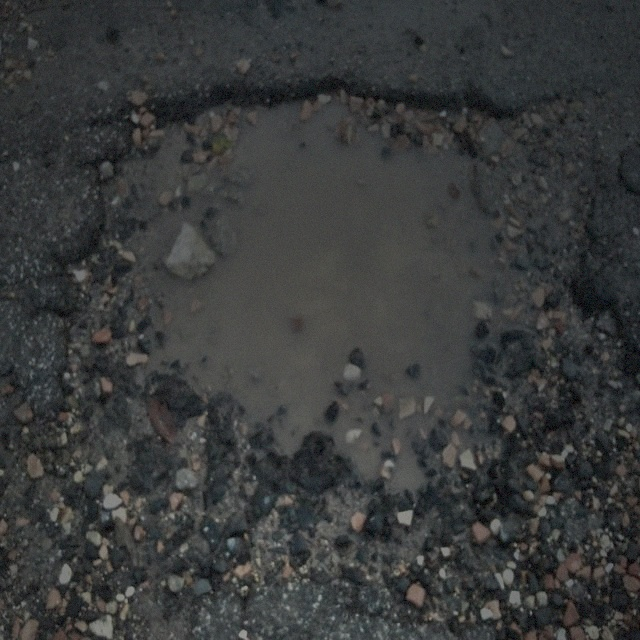pothole: (79, 58, 548, 527)
